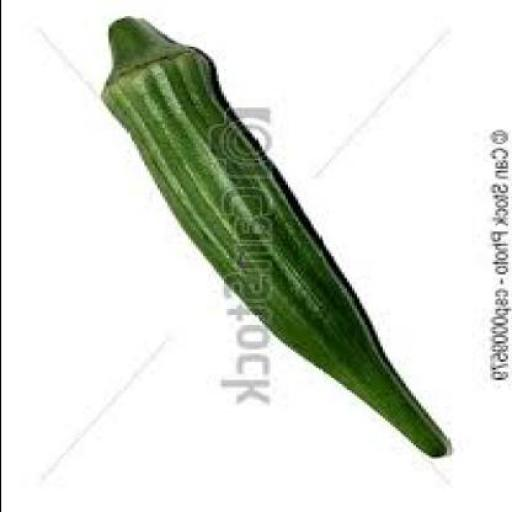biodegradable: (100, 14, 448, 455)
